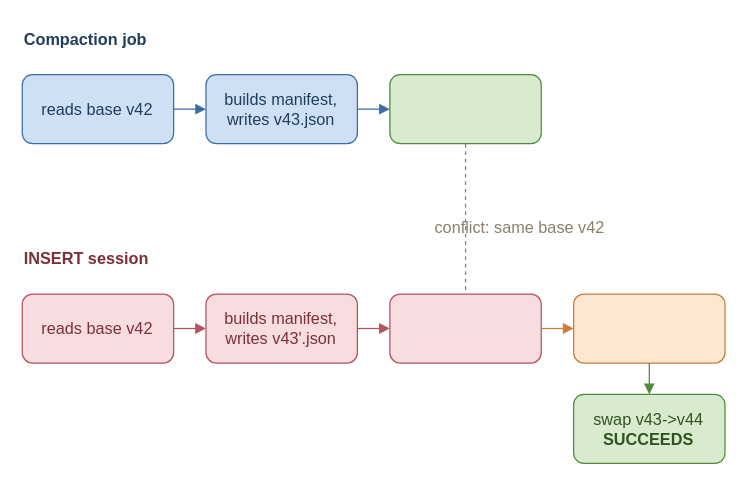
Image size: 748x486. Some labels were removed from this diagram. The shapes that lost their labels are listed below. From the top down, each one's centre as x and y in pixels, then its label:
At [465,108]: "swap v42->v43 SUCCEEDS".
At [465,328]: "swap v42->v43' REJECTED base is stale".
At [648,328]: "re-reads v43, rebuilds manifest".
